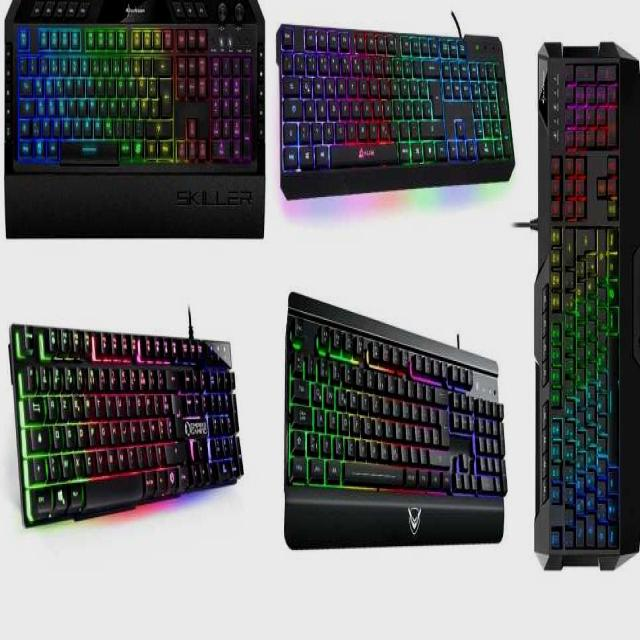keyboard: (280, 286, 509, 558), (531, 23, 640, 575), (3, 306, 248, 540), (2, 0, 270, 193), (274, 17, 517, 205)
